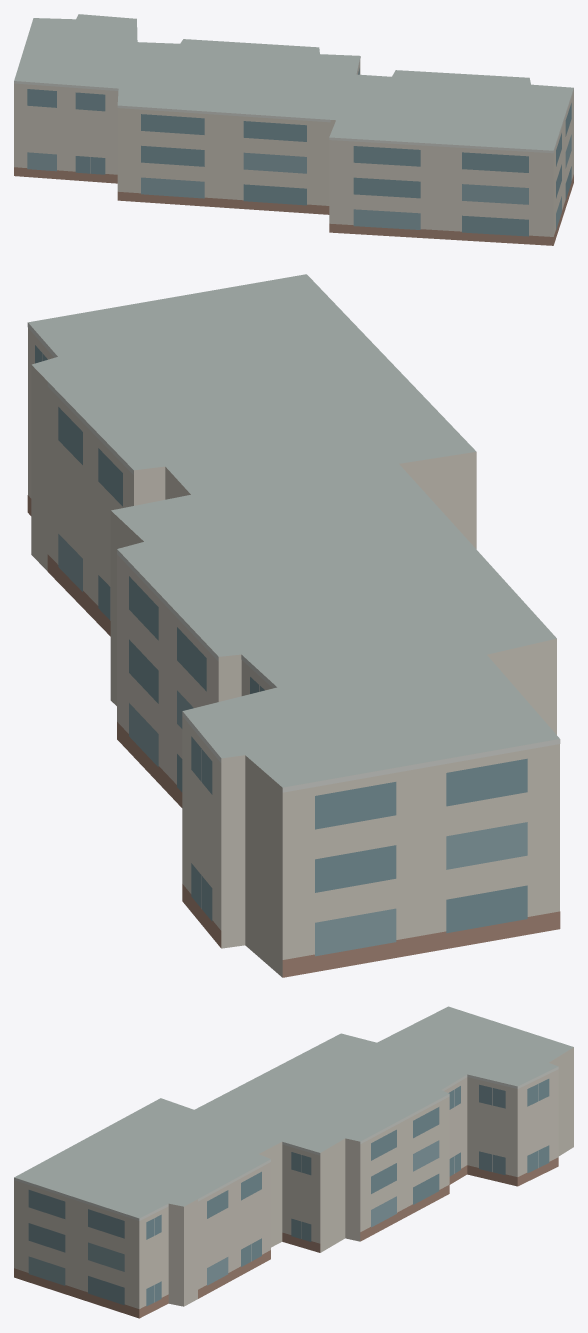
File: survey-upis-32859062.glb
The picture shows the model from 3 angles, top to bottom: view 1: azimuth 30°, elevation 25°; view 2: azimuth 150°, elevation 25°; view 3: azimuth 270°, elevation 25°; orthographic projection. The views are drawn at different scales.
Visible parts, largest first — view 1: survey-upis-32859062.tmp; view 2: survey-upis-32859062.tmp; view 3: survey-upis-32859062.tmp.
Part boxes in pixels (x1=…): survey-upis-32859062.tmp: x1=14, y1=14, x2=573, y2=245; survey-upis-32859062.tmp: x1=27, y1=274, x2=560, y2=977; survey-upis-32859062.tmp: x1=14, y1=1006, x2=573, y2=1318.
Size of the model in its own units: 41.6 by 9.15 by 46.42.
